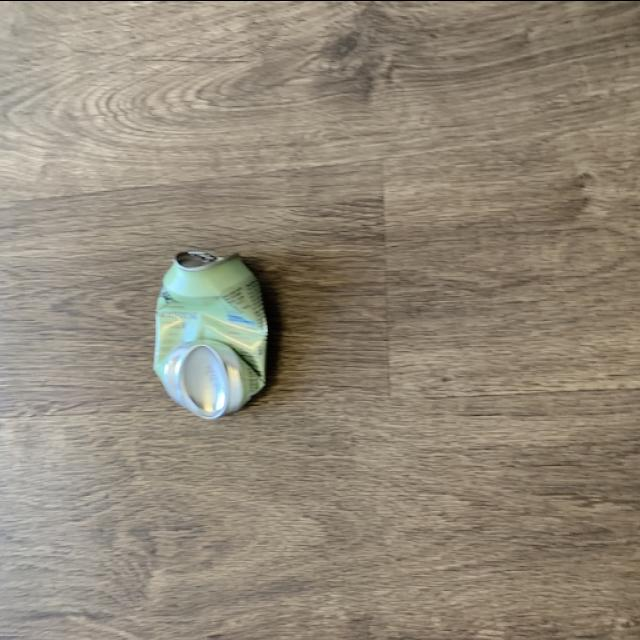Aluminum Can: (133, 225, 291, 427)
